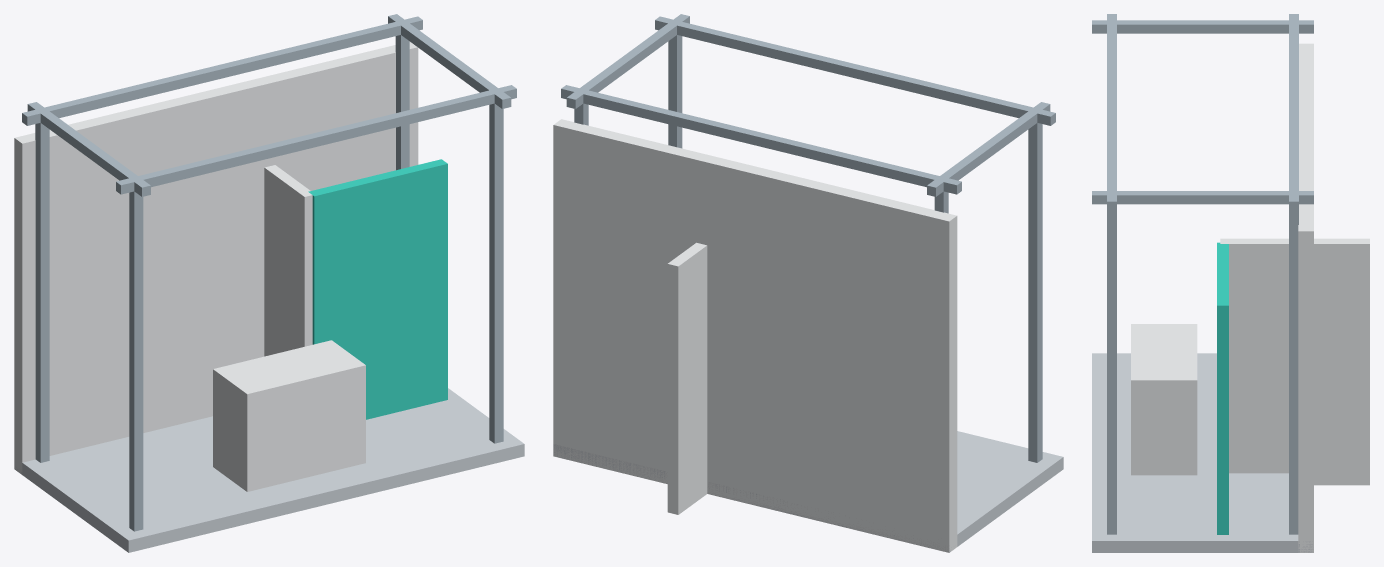
The picture shows the model from 3 angles, left to right: view 1: azimuth 30°, elevation 25°; view 2: azimuth 150°, elevation 25°; view 3: azimuth 270°, elevation 25°; orthographic projection. The views are drawn at different scales.
Visible parts, largest first — view 1: Exhibition Booth Concept; view 2: Exhibition Booth Concept; view 3: Exhibition Booth Concept.
Part boxes in pixels (bbox=[...]): Exhibition Booth Concept: bbox=[14, 14, 524, 552]; Exhibition Booth Concept: bbox=[553, 14, 1063, 552]; Exhibition Booth Concept: bbox=[1092, 14, 1369, 552].
Size of the model in its own units: 4 by 3.49 by 2.5.
